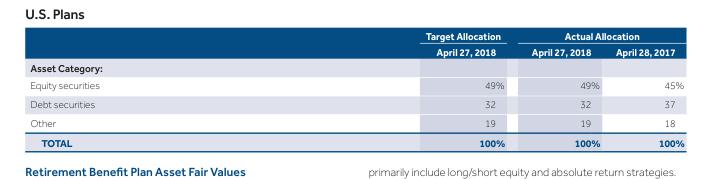table: (29, 29, 683, 148)
table column: (261, 29, 517, 148), (29, 29, 261, 148), (517, 29, 607, 148), (607, 29, 683, 148)
table column header: (29, 29, 683, 59)
table projected row header: (29, 59, 683, 77)
table row: (29, 77, 683, 96), (29, 59, 683, 77), (29, 96, 683, 114), (29, 114, 683, 132), (29, 43, 683, 59), (29, 132, 683, 148), (29, 29, 683, 43)
table spanning cell: (261, 29, 517, 59), (517, 29, 683, 43)
